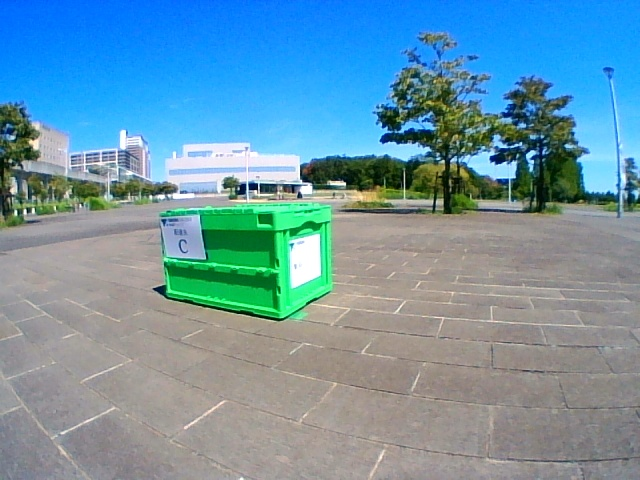green_box: (159, 203, 333, 318)
tag_c: (166, 218, 199, 258)
